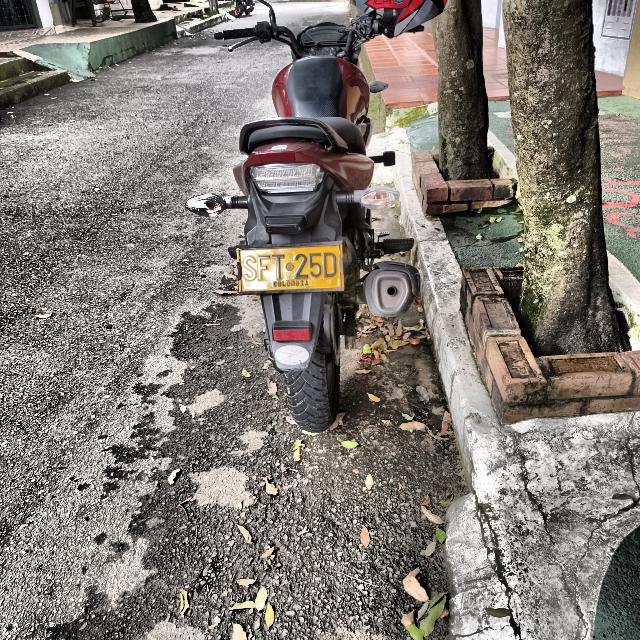plate: (236, 241, 345, 295)
